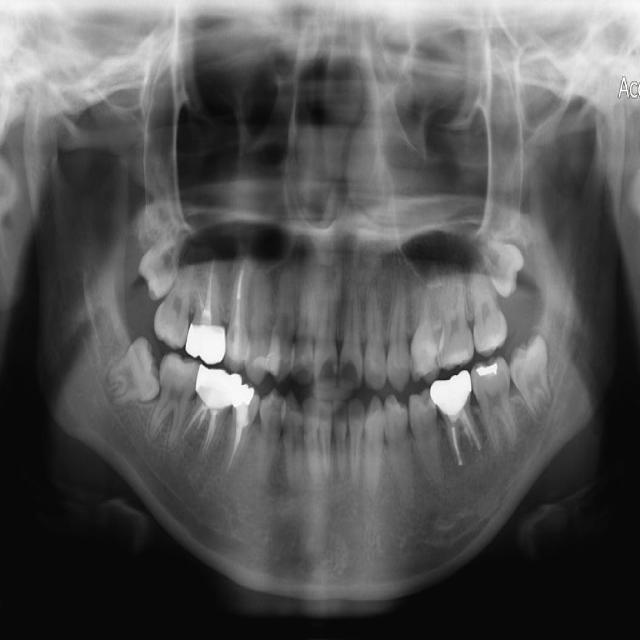Crown: (194, 362, 242, 410), (430, 369, 470, 419), (184, 322, 226, 365)
Filling: (219, 324, 250, 373), (230, 381, 260, 427)
Root Canal Treatment: (177, 408, 201, 440), (203, 411, 217, 450), (465, 412, 479, 449), (473, 362, 502, 378), (235, 263, 242, 319), (207, 258, 214, 307), (193, 278, 203, 312), (232, 429, 243, 455), (194, 413, 203, 431), (452, 421, 457, 450)
impacted tooth: (142, 214, 192, 300), (509, 332, 556, 419), (100, 337, 161, 404), (460, 226, 521, 293)
